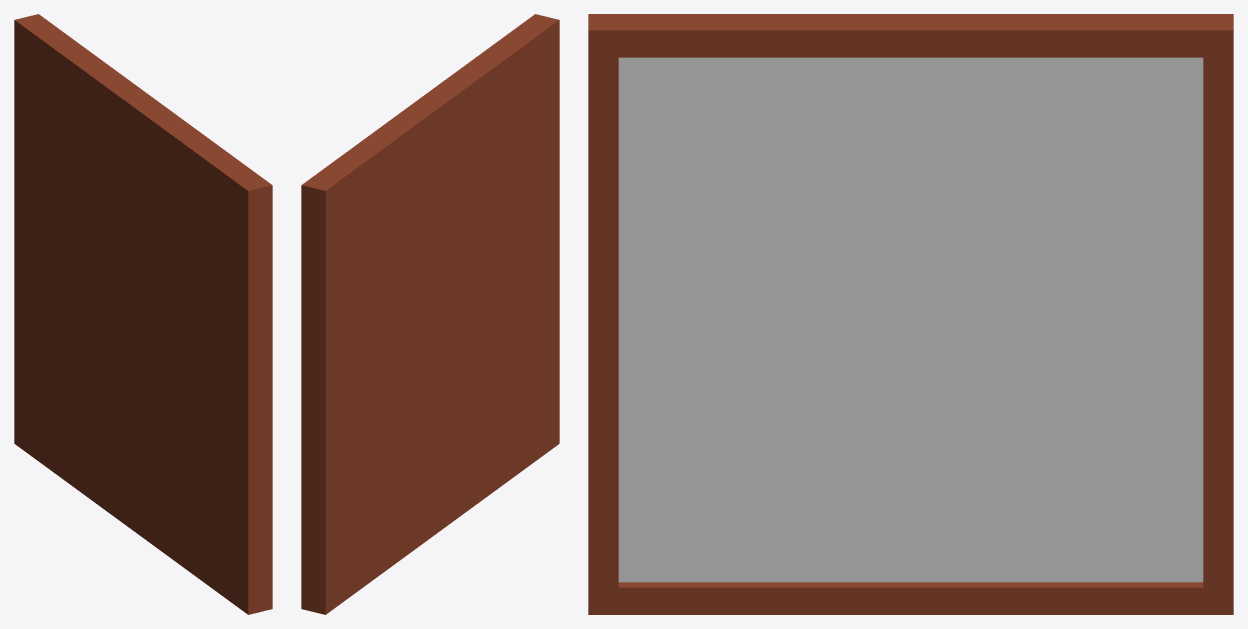
Rendered from Painting.fbx.
The picture shows the model from 3 angles, left to right: view 1: azimuth 30°, elevation 25°; view 2: azimuth 150°, elevation 25°; view 3: azimuth 270°, elevation 25°; orthographic projection. The views are drawn at different scales.
Parts seen in each view (by area): view 1: Cube; view 2: Cube; view 3: Cube.
Part boxes in pixels (x1=…): Cube: x1=14, y1=14, x2=272, y2=614; Cube: x1=301, y1=14, x2=559, y2=614; Cube: x1=588, y1=14, x2=1233, y2=614.
Bounding box in the file's own units: 11.94 × 200 × 200.
